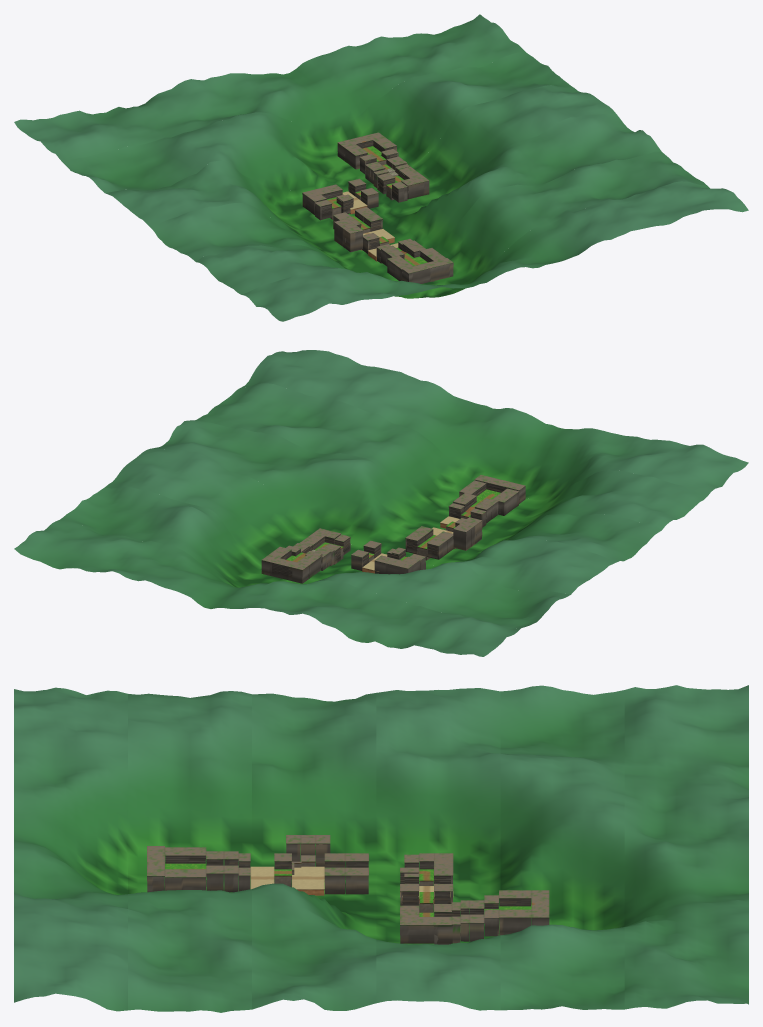
File: rapids_run_terrain.glb
The picture shows the model from 3 angles, top to bottom: view 1: azimuth 30°, elevation 25°; view 2: azimuth 150°, elevation 25°; view 3: azimuth 270°, elevation 25°; orthographic projection. The views are drawn at different scales.
Parts seen in each view (by area): view 1: backdrop_4, backdrop_5, backdrop_2, backdrop_3, backdrop_1, backdrop_0, terrain_G, terrain_A, terrain_E, terrain_C, terrain_B, terrain_D; view 2: backdrop_0, backdrop_1, backdrop_2, backdrop_5, backdrop_4, backdrop_3, terrain_G, terrain_E, terrain_A, terrain_B, terrain_C, terrain_D; view 3: backdrop_5, backdrop_4, backdrop_0, backdrop_1, backdrop_2, backdrop_3, terrain_G, terrain_C, terrain_B, terrain_A, terrain_E, terrain_D (+1 smaller).
Boxes of the visible parts, x1,y1,x2,y2 form: backdrop_4: (60,51,570,192); backdrop_5: (14,14,524,160); backdrop_2: (150,113,661,268); backdrop_3: (105,85,615,234); backdrop_1: (196,151,706,298); backdrop_0: (241,181,748,321); terrain_G: (337,132,429,199); terrain_A: (387,248,453,283); terrain_E: (302,178,378,215); terrain_C: (334,213,394,252); terrain_B: (362,233,425,266); terrain_D: (315,194,374,228); backdrop_0: (242,350,748,500); backdrop_1: (196,383,706,536); backdrop_2: (152,420,661,565); backdrop_5: (14,520,523,656); backdrop_4: (60,486,570,628); backdrop_3: (105,448,615,594); terrain_G: (261,528,341,583); terrain_E: (351,540,420,574); terrain_A: (459,475,525,515); terrain_B: (440,493,498,531); terrain_C: (414,517,482,553); terrain_D: (387,531,447,569); backdrop_5: (624,685,748,1009); backdrop_4: (500,685,624,1010); backdrop_0: (14,687,127,1011); backdrop_1: (128,691,251,1012); backdrop_2: (252,693,376,1010); backdrop_3: (376,688,500,1010); terrain_G: (400,890,549,944); terrain_C: (286,835,345,895); terrain_B: (206,851,291,892); terrain_A: (147,846,206,892); terrain_E: (400,853,453,912); terrain_D: (345,853,419,894).
Size of the model in its own units: 497 by 61.93 by 497.
